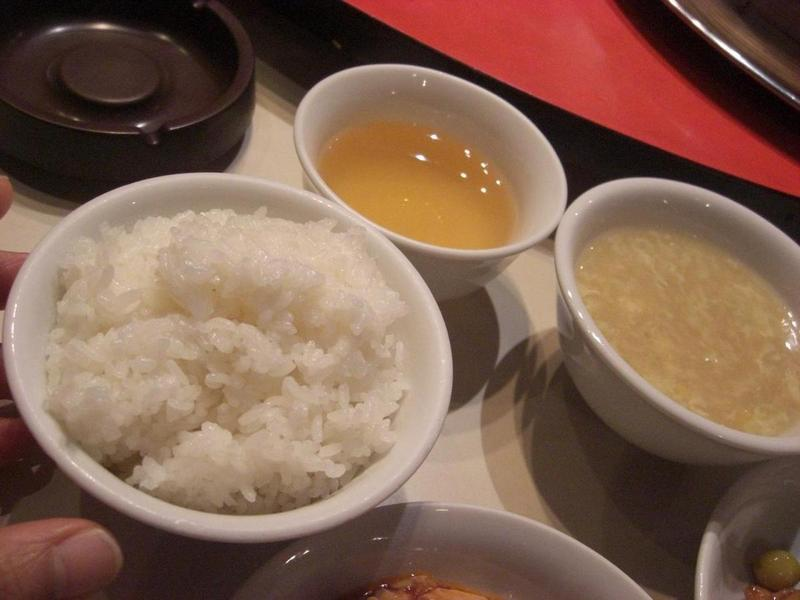plate: (3, 174, 451, 543)
rice: (41, 208, 417, 514)
